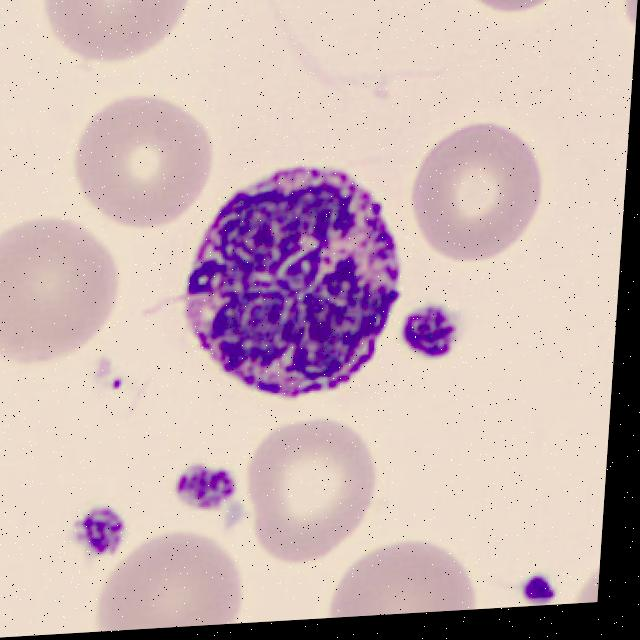basophil: (166, 151, 414, 412)
platelets: (402, 283, 478, 364), (172, 450, 256, 510), (69, 498, 139, 557), (508, 556, 572, 605)
rbc: (243, 409, 393, 582), (408, 111, 565, 267), (0, 207, 134, 364), (74, 98, 220, 230), (90, 524, 251, 632), (329, 531, 488, 618), (42, 0, 205, 72), (459, 0, 585, 30), (617, 0, 640, 51)
